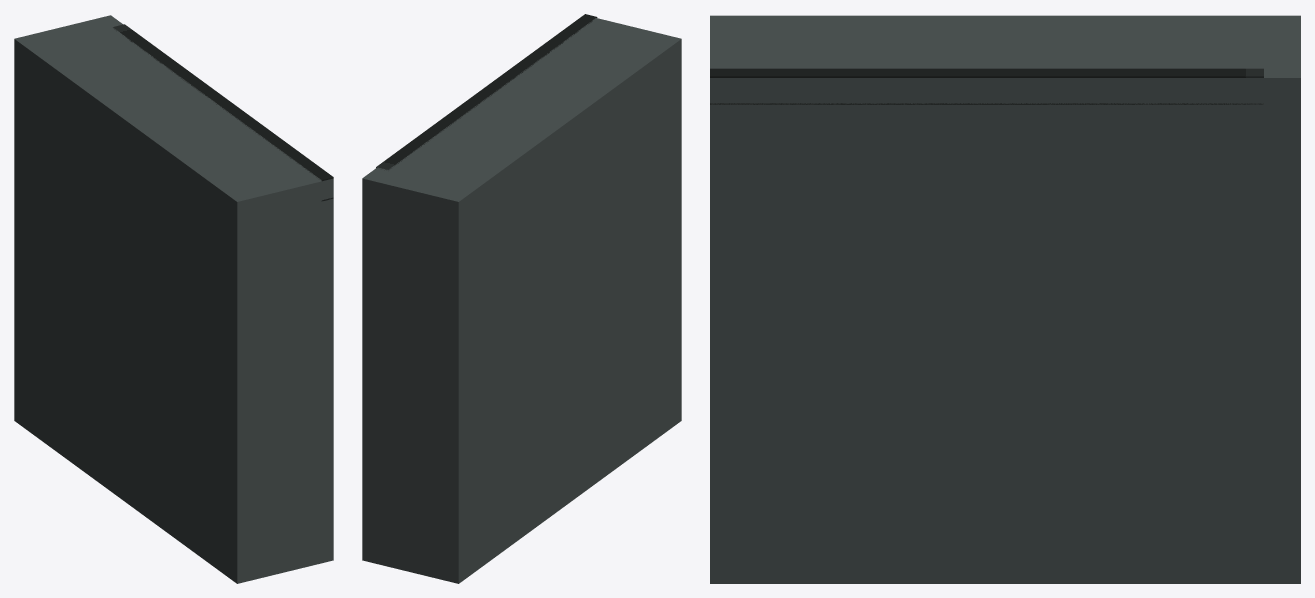
Rendered from CMU3DInteriorVehicleTankProp2.glb.
3 views of the same model, side by side, from view 1: azimuth 30°, elevation 25°; view 2: azimuth 150°, elevation 25°; view 3: azimuth 270°, elevation 25° (orthographic). The views are drawn at different scales.
Parts seen in each view (by area): view 1: turret station equipment, console top, console top source finish; view 2: turret station equipment, console top, console top source finish; view 3: turret station equipment, console top, console top source finish, turret station equipment source finish.
Boxes of the visible parts, x1,y1,x2,y2 form: turret station equipment: (14, 59, 333, 583); console top: (14, 15, 333, 221); console top source finish: (113, 24, 333, 181); turret station equipment: (362, 59, 681, 583); console top: (362, 18, 681, 221); console top source finish: (376, 14, 597, 170); turret station equipment: (710, 104, 1300, 583); console top: (710, 15, 1300, 104); console top source finish: (710, 68, 1263, 77); turret station equipment source finish: (710, 103, 1263, 104).
Size of the model in its own units: 0.25 by 0.948 by 1.
2 materials, 1 textured.
